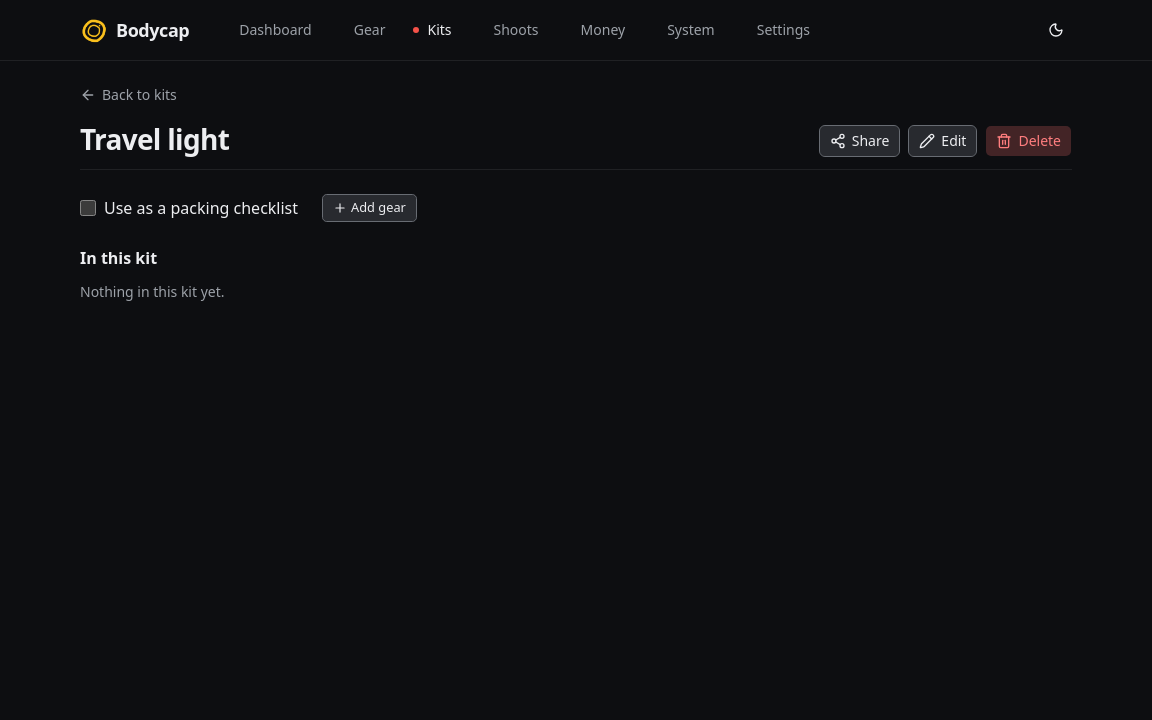
Test: a kit › renames the kit
This screenshot has width=1152, height=720.
Expected: the heading "Travel light" is shown, [80,121,229,157]
Click the button "Edit" at (943, 141), box [908,125,978,157]
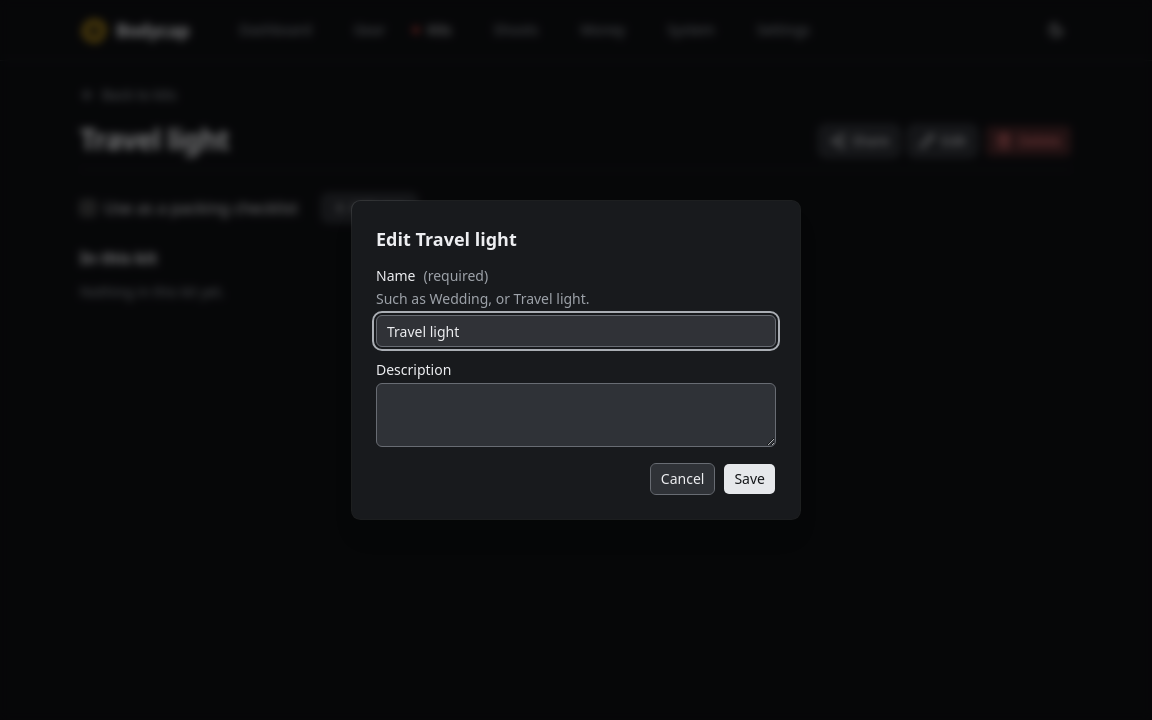
Replace the text in the field labelled "Name" with "Travel lighter" at (576, 331), box [376,315,776,347]
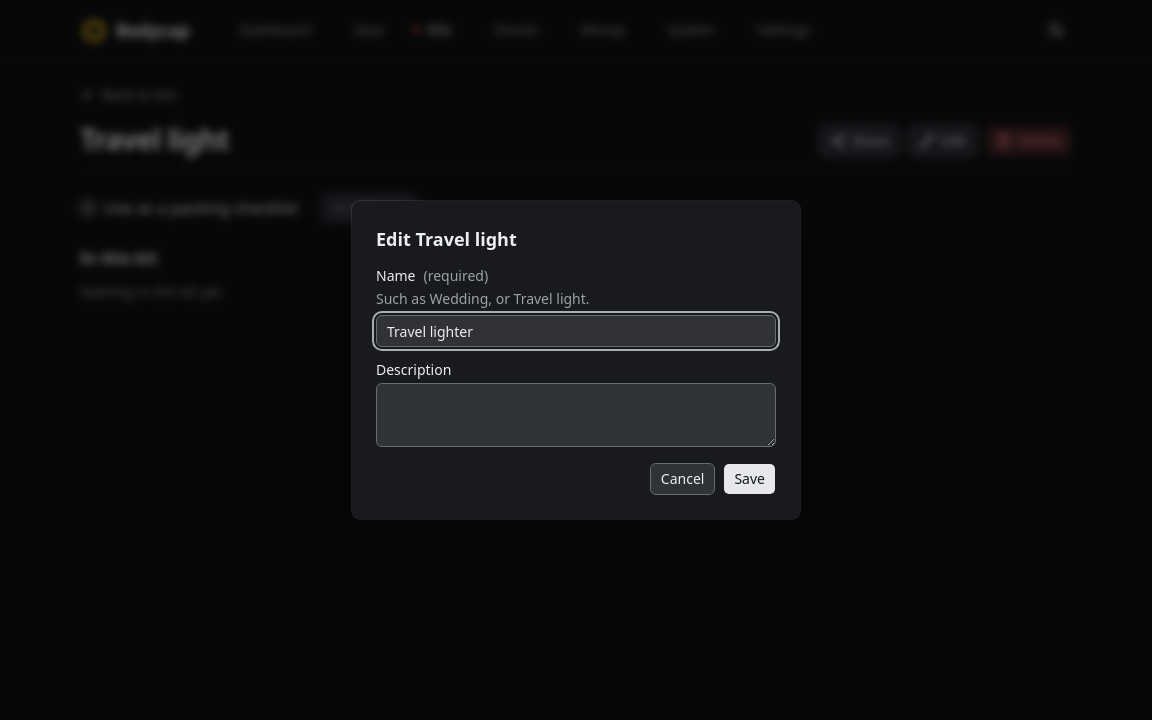
Click the button "Save" at (750, 479), box [723,463,776,495]
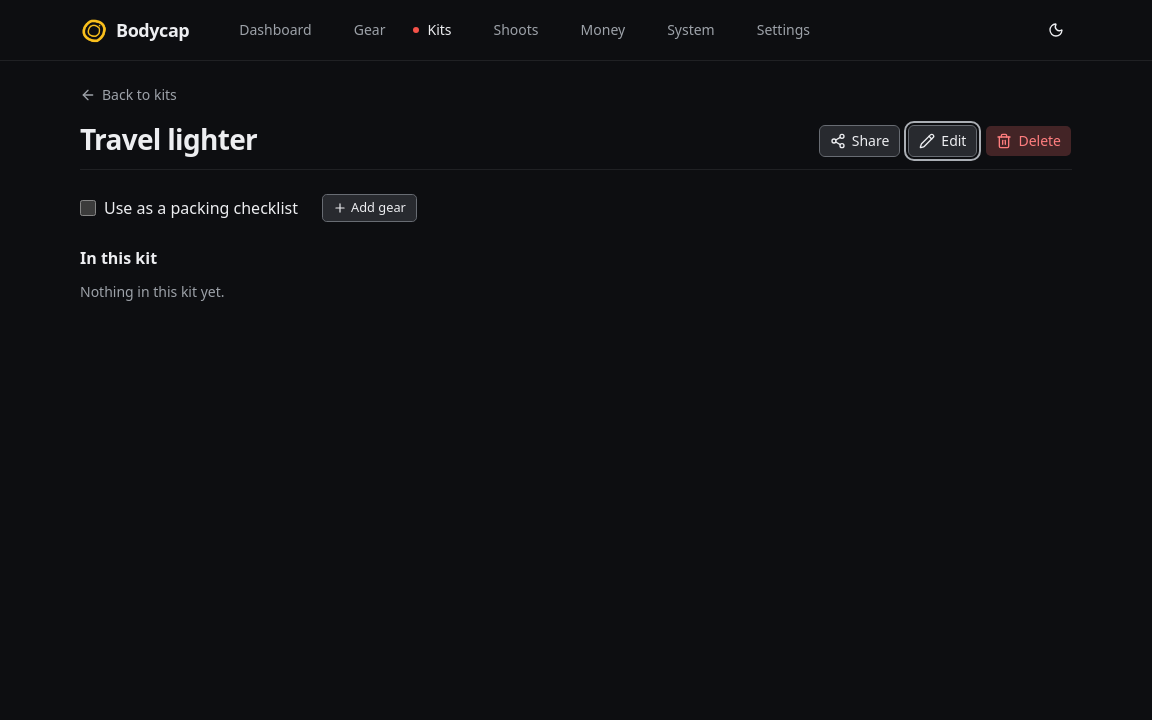
Now the heading "Travel lighter" is shown, box [80,121,257,157]
